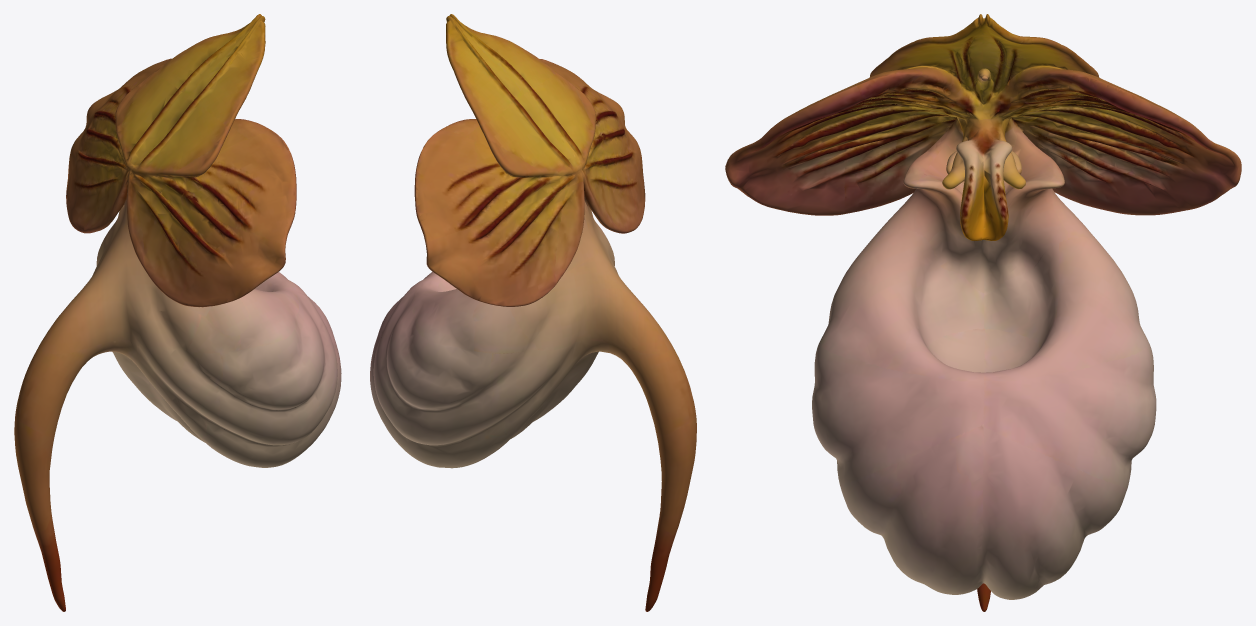
File: sz-orchid.glb
The picture shows the model from 3 angles, left to right: view 1: azimuth 30°, elevation 25°; view 2: azimuth 150°, elevation 25°; view 3: azimuth 270°, elevation 25°; orthographic projection. The views are drawn at different scales.
Visible parts, largest first — view 1: tripo_node_ca298e04-76a3-466d-98f6-006904303128; view 2: tripo_node_ca298e04-76a3-466d-98f6-006904303128; view 3: tripo_node_ca298e04-76a3-466d-98f6-006904303128.
Part boxes in pixels (x1=…): tripo_node_ca298e04-76a3-466d-98f6-006904303128: x1=14, y1=14, x2=341, y2=611; tripo_node_ca298e04-76a3-466d-98f6-006904303128: x1=370, y1=14, x2=696, y2=611; tripo_node_ca298e04-76a3-466d-98f6-006904303128: x1=725, y1=14, x2=1241, y2=611.
Size of the model in its own units: 0.5874 by 0.9998 by 0.6468.
1 material, 1 textured.
